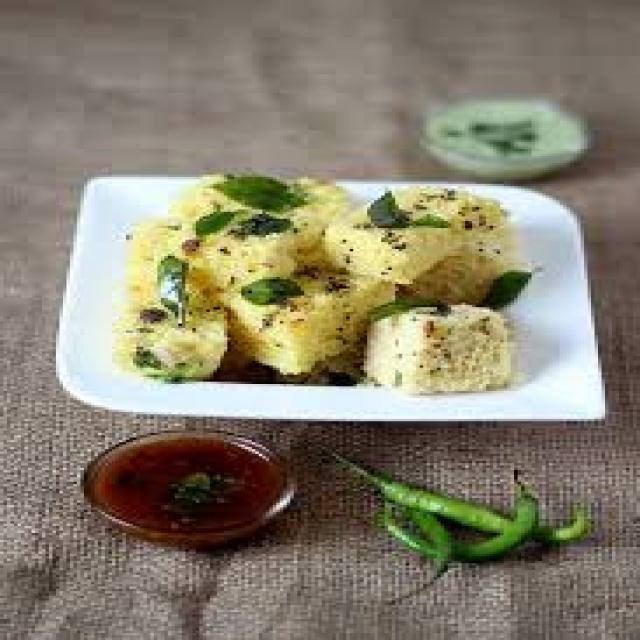DHOKLA: (220, 256, 392, 372), (364, 307, 514, 393), (325, 191, 458, 284), (182, 209, 318, 289)
